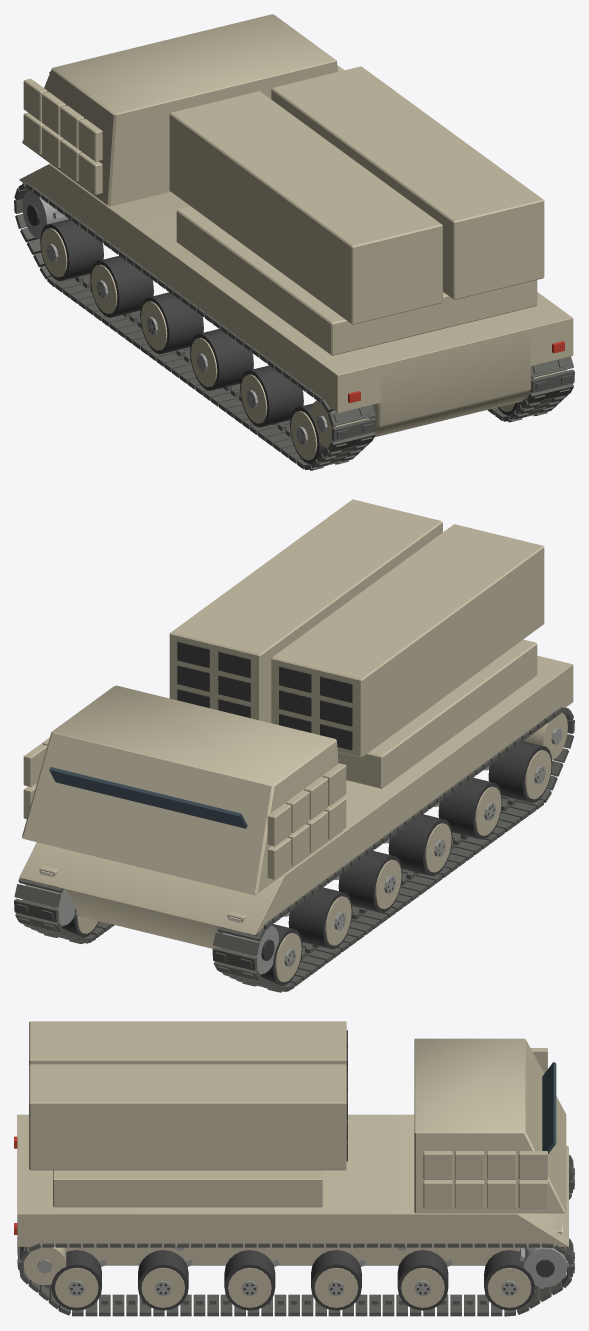
The model's file is usa_mlrs_m270a2.glb.
The picture shows the model from 3 angles, top to bottom: view 1: azimuth 30°, elevation 25°; view 2: azimuth 150°, elevation 25°; view 3: azimuth 270°, elevation 25°; orthographic projection. The views are drawn at different scales.
Parts seen in each view (by area): view 1: body, barrel, turret; view 2: body, barrel, turret; view 3: body, barrel, turret.
Boxes of the visible parts, left/top/right/bottom form: body: left=14, top=14, right=574, bottom=470; barrel: left=169, top=66, right=544, bottom=324; turret: left=176, top=206, right=537, bottom=355; body: left=14, top=655, right=574, bottom=992; barrel: left=169, top=499, right=544, bottom=757; turret: left=337, top=639, right=537, bottom=788; body: left=14, top=1038, right=574, bottom=1316; barrel: left=29, top=1021, right=347, bottom=1170; turret: left=53, top=1170, right=322, bottom=1207.
Size of the model in its own units: 3.17 by 2.85 by 7.06.
